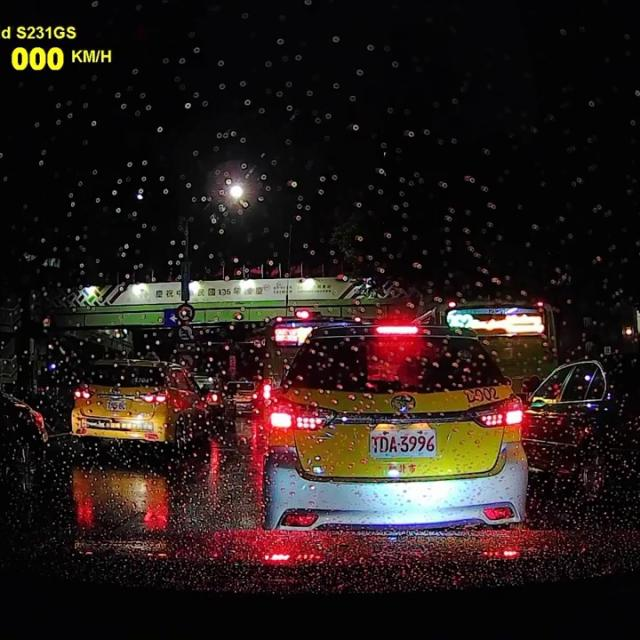Car: (262, 319, 527, 544), (522, 352, 639, 497), (67, 354, 201, 455), (0, 379, 50, 502), (222, 374, 257, 414), (193, 374, 219, 412)
